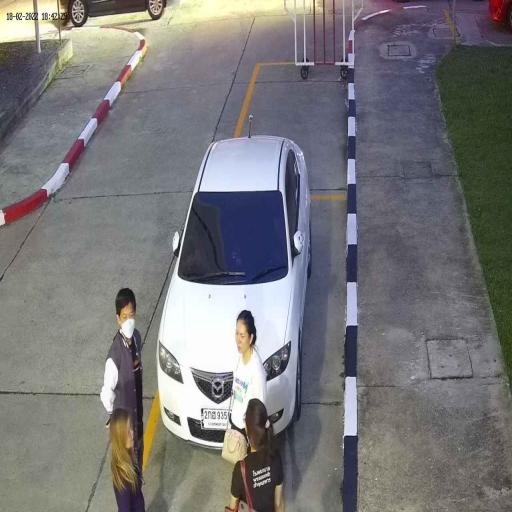car: (155, 134, 313, 453)
